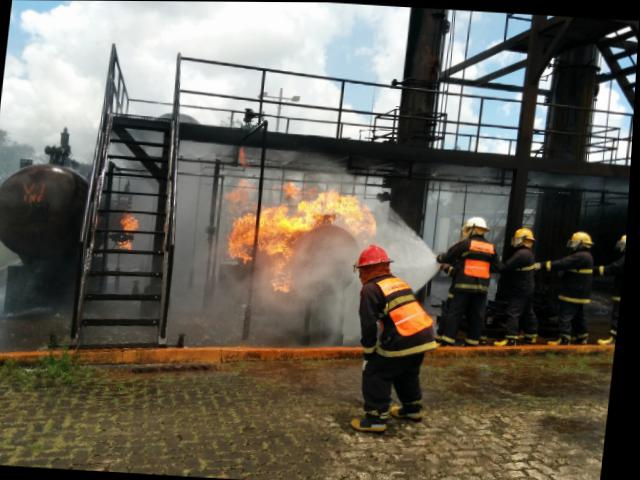fire: (211, 167, 385, 294), (116, 211, 142, 249)
